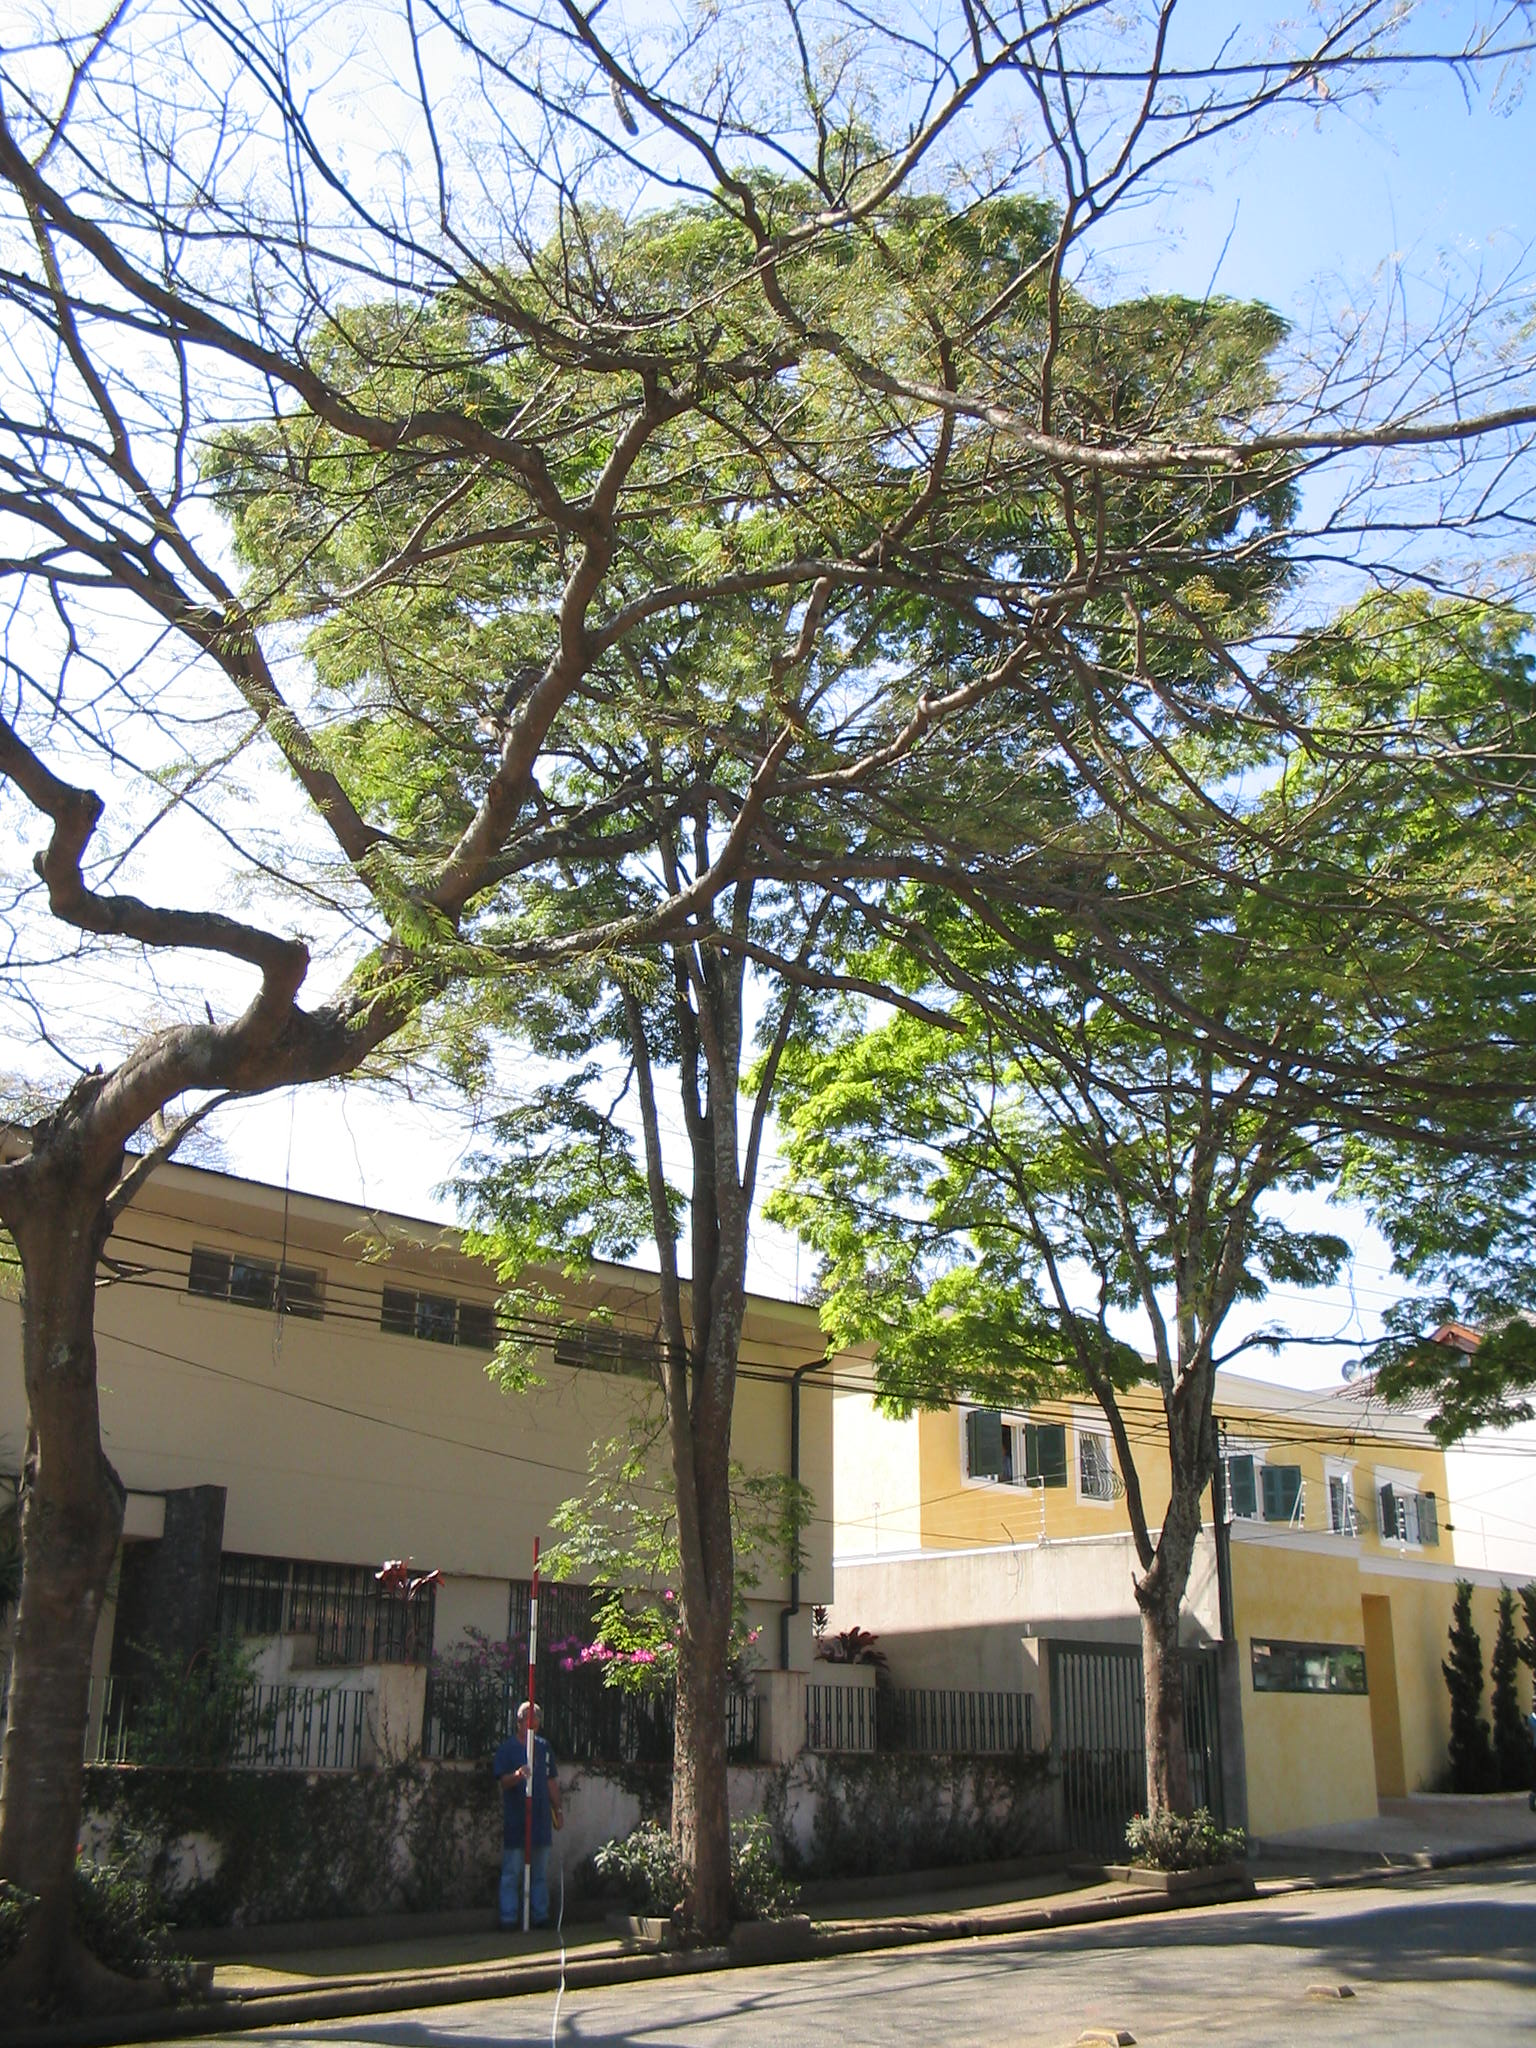crown: (223, 145, 1289, 1074), (807, 597, 1525, 1453)
stem: (3, 1047, 227, 2011), (636, 1592, 774, 1917), (1112, 1582, 1225, 1867)
stick: (508, 1532, 553, 1929)
tree: (216, 142, 1296, 1924), (757, 584, 1525, 1871)
